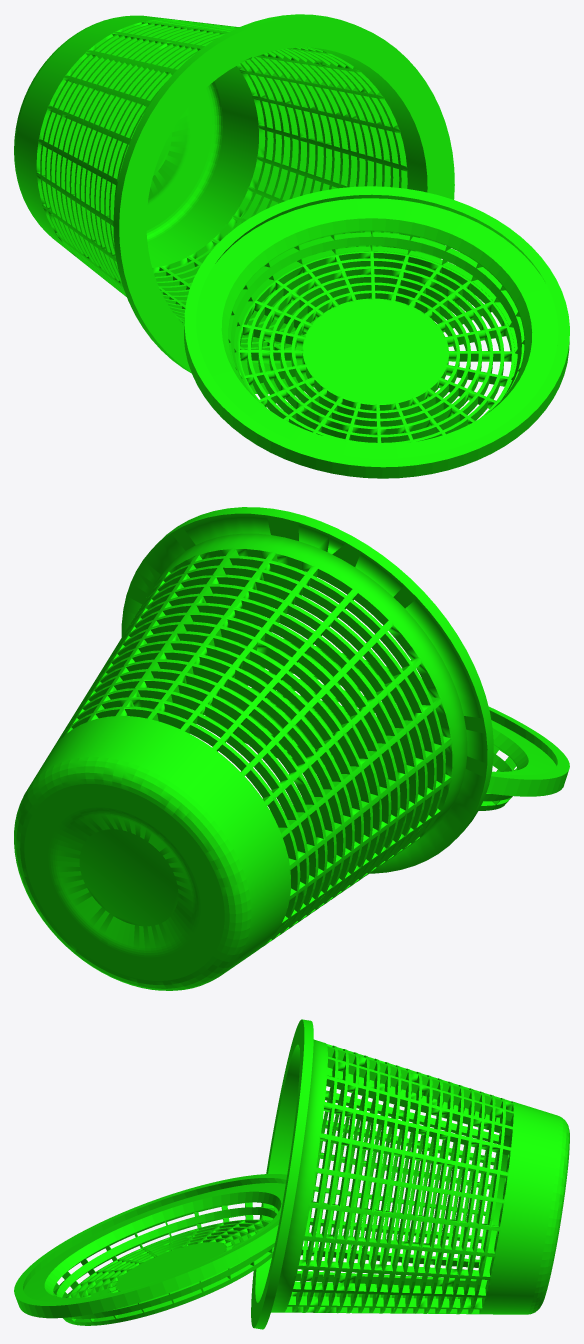
Rendered from Basket_Not_Plastic_Material.FBX.
3 renders of one model, top to bottom at view 1: azimuth 30°, elevation 25°; view 2: azimuth 150°, elevation 25°; view 3: azimuth 270°, elevation 25°, orthographic. The views are drawn at different scales.
Parts seen in each view (by area): view 1: Basket, Cover001; view 2: Basket, Cover001; view 3: Basket, Cover001.
Boxes of the visible parts, x1,y1,x2,y2 form: Basket: [14, 14, 454, 394]; Cover001: [184, 186, 569, 478]; Basket: [14, 507, 493, 990]; Cover001: [205, 638, 569, 810]; Basket: [251, 1019, 569, 1329]; Cover001: [14, 1174, 312, 1325].
Bounding box in the file's own units: 72.68 × 68.23 × 123.
